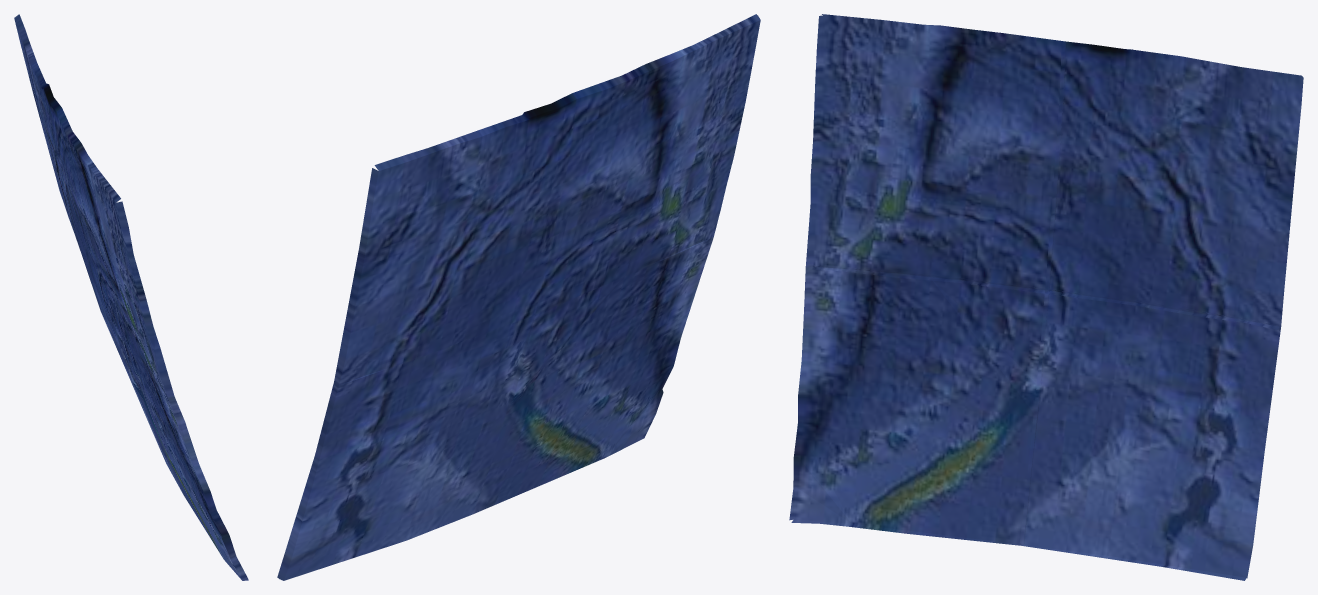
3 renders of one model, left to right at view 1: azimuth 30°, elevation 25°; view 2: azimuth 150°, elevation 25°; view 3: azimuth 270°, elevation 25°, orthographic. The views are drawn at different scales.
Bounding box in the file's own units: 710341 × 1207561 × 1257486.
Materials: 1 (1 with a texture image).
